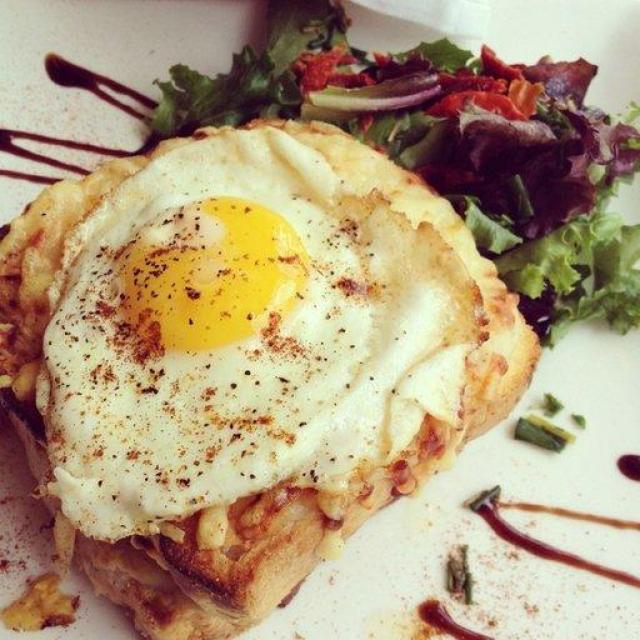food_waste: (43, 108, 463, 586), (168, 8, 640, 328)
